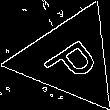P_NE: (35, 28, 103, 88)
